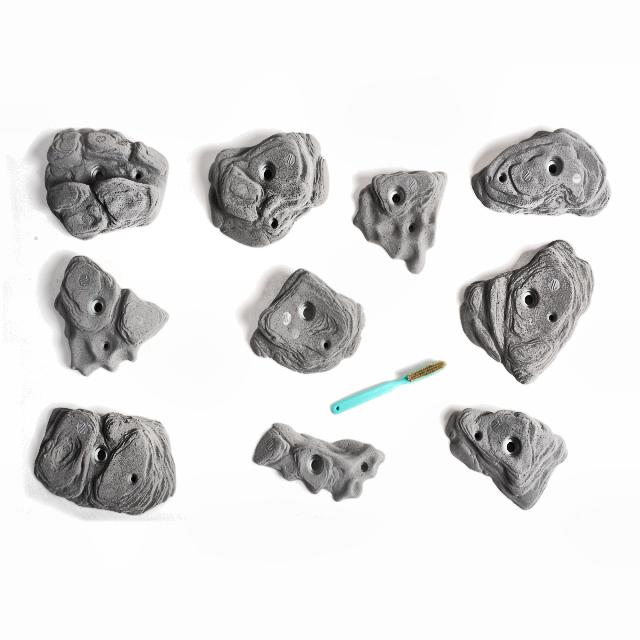Hold: (456, 238, 600, 378), (39, 122, 173, 244), (33, 401, 183, 508), (200, 129, 329, 248), (240, 266, 365, 382), (44, 254, 162, 376), (438, 402, 567, 508), (475, 122, 607, 216), (254, 425, 384, 506), (354, 162, 438, 270)
